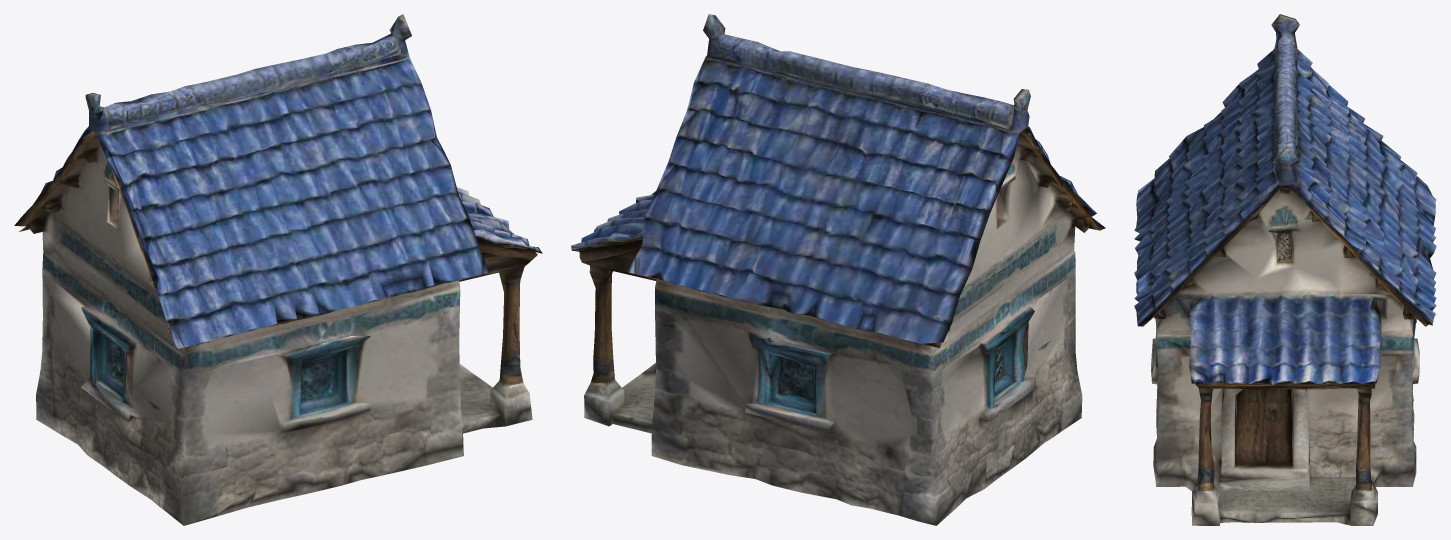
The model's file is house_cottage_1.glb.
The picture shows the model from 3 angles, left to right: view 1: azimuth 30°, elevation 25°; view 2: azimuth 150°, elevation 25°; view 3: azimuth 270°, elevation 25°; orthographic projection. The views are drawn at different scales.
Visible parts, largest first — view 1: tripo_node_c624b13c-2225-4914-8717-684f2fc18b02; view 2: tripo_node_c624b13c-2225-4914-8717-684f2fc18b02; view 3: tripo_node_c624b13c-2225-4914-8717-684f2fc18b02.
Part boxes in pixels (x1,y1,x2,y2): tripo_node_c624b13c-2225-4914-8717-684f2fc18b02: [14, 14, 542, 525]; tripo_node_c624b13c-2225-4914-8717-684f2fc18b02: [571, 14, 1105, 525]; tripo_node_c624b13c-2225-4914-8717-684f2fc18b02: [1134, 14, 1436, 525].
Bounding box in the file's own units: 0.9797 × 0.8948 × 0.7136.
1 material, 1 textured.
